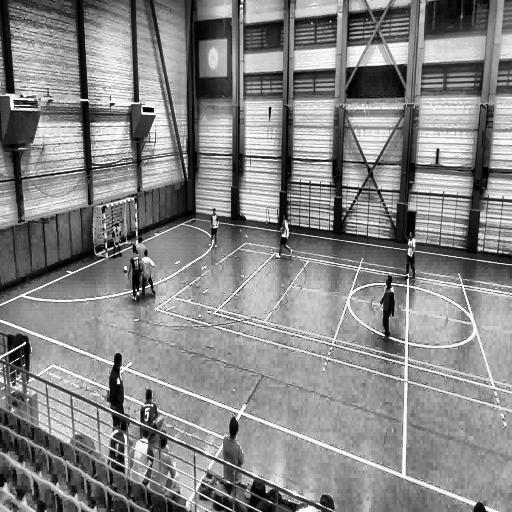ball: (122, 264, 129, 275)
player: (106, 353, 125, 425), (380, 274, 395, 341), (127, 244, 142, 304), (140, 247, 156, 297), (277, 213, 293, 258), (404, 228, 416, 280), (209, 209, 219, 250), (111, 223, 122, 258), (137, 234, 147, 265)
